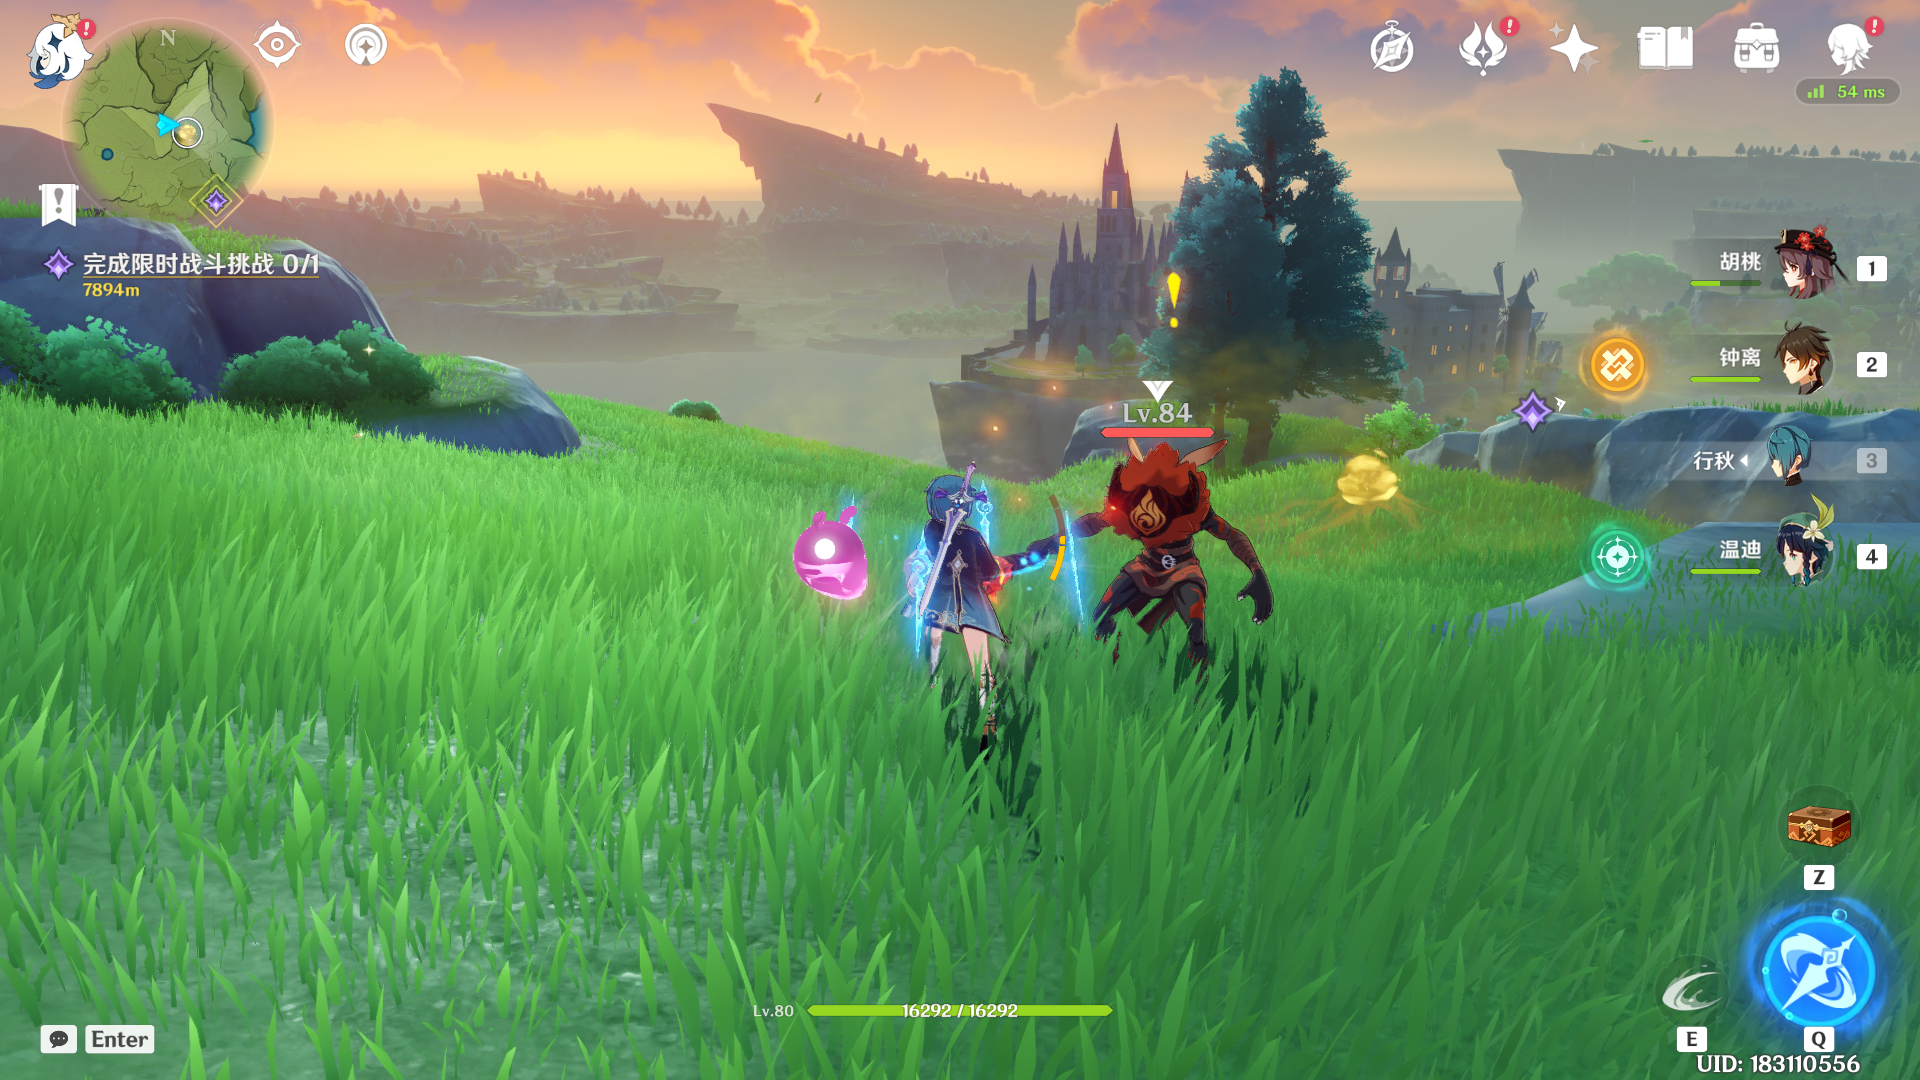character: (855, 454, 1044, 749)
hili: (1025, 423, 1275, 709)
